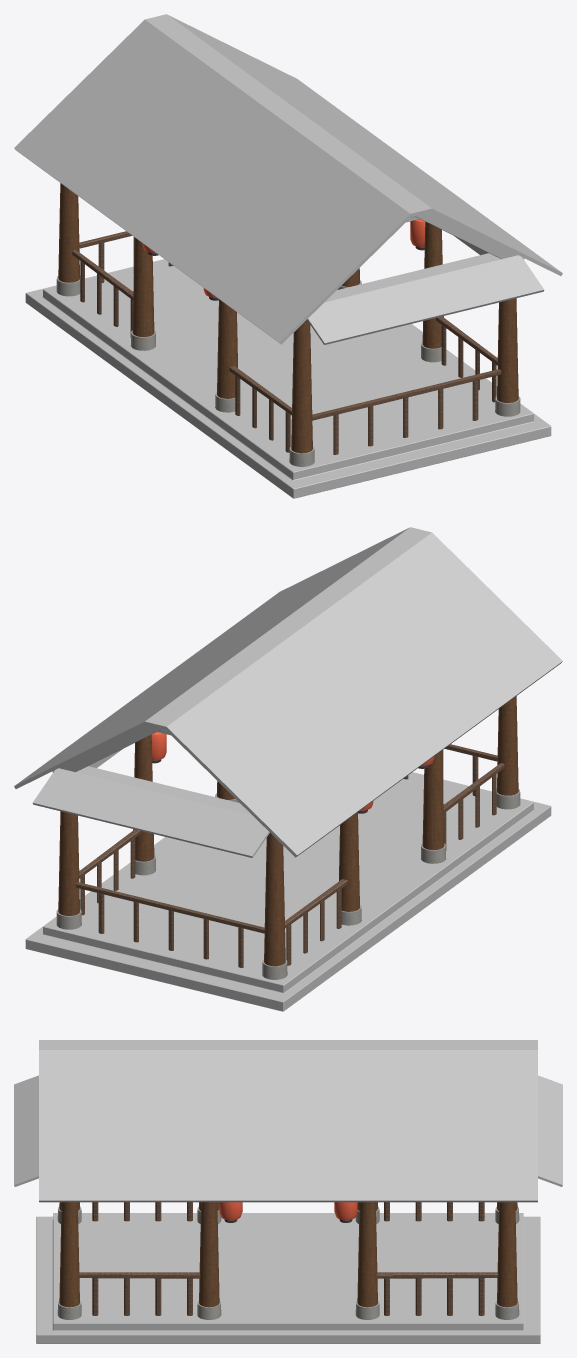
Rendered from Temple3.fbx.
The picture shows the model from 3 angles, top to bottom: view 1: azimuth 30°, elevation 25°; view 2: azimuth 150°, elevation 25°; view 3: azimuth 270°, elevation 25°; orthographic projection. The views are drawn at different scales.
Parts seen in each view (by area): view 1: Temple3; view 2: Temple3; view 3: Temple3.
Boxes of the visible parts, box(x1,y1,x2,y2) form: Temple3: box(14, 14, 562, 498); Temple3: box(14, 527, 562, 1011); Temple3: box(14, 1040, 562, 1343).
Bounding box in the file's own units: 1265 × 1089 × 2259.
